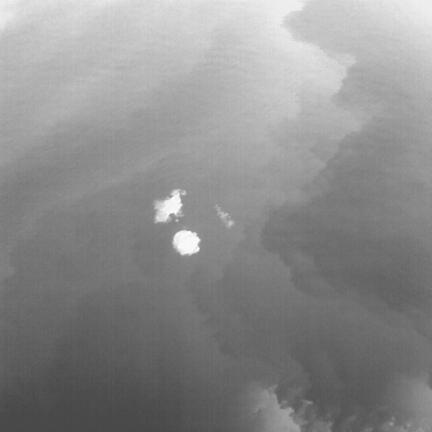flukeprints: (155, 189, 186, 222), (172, 230, 200, 255)
